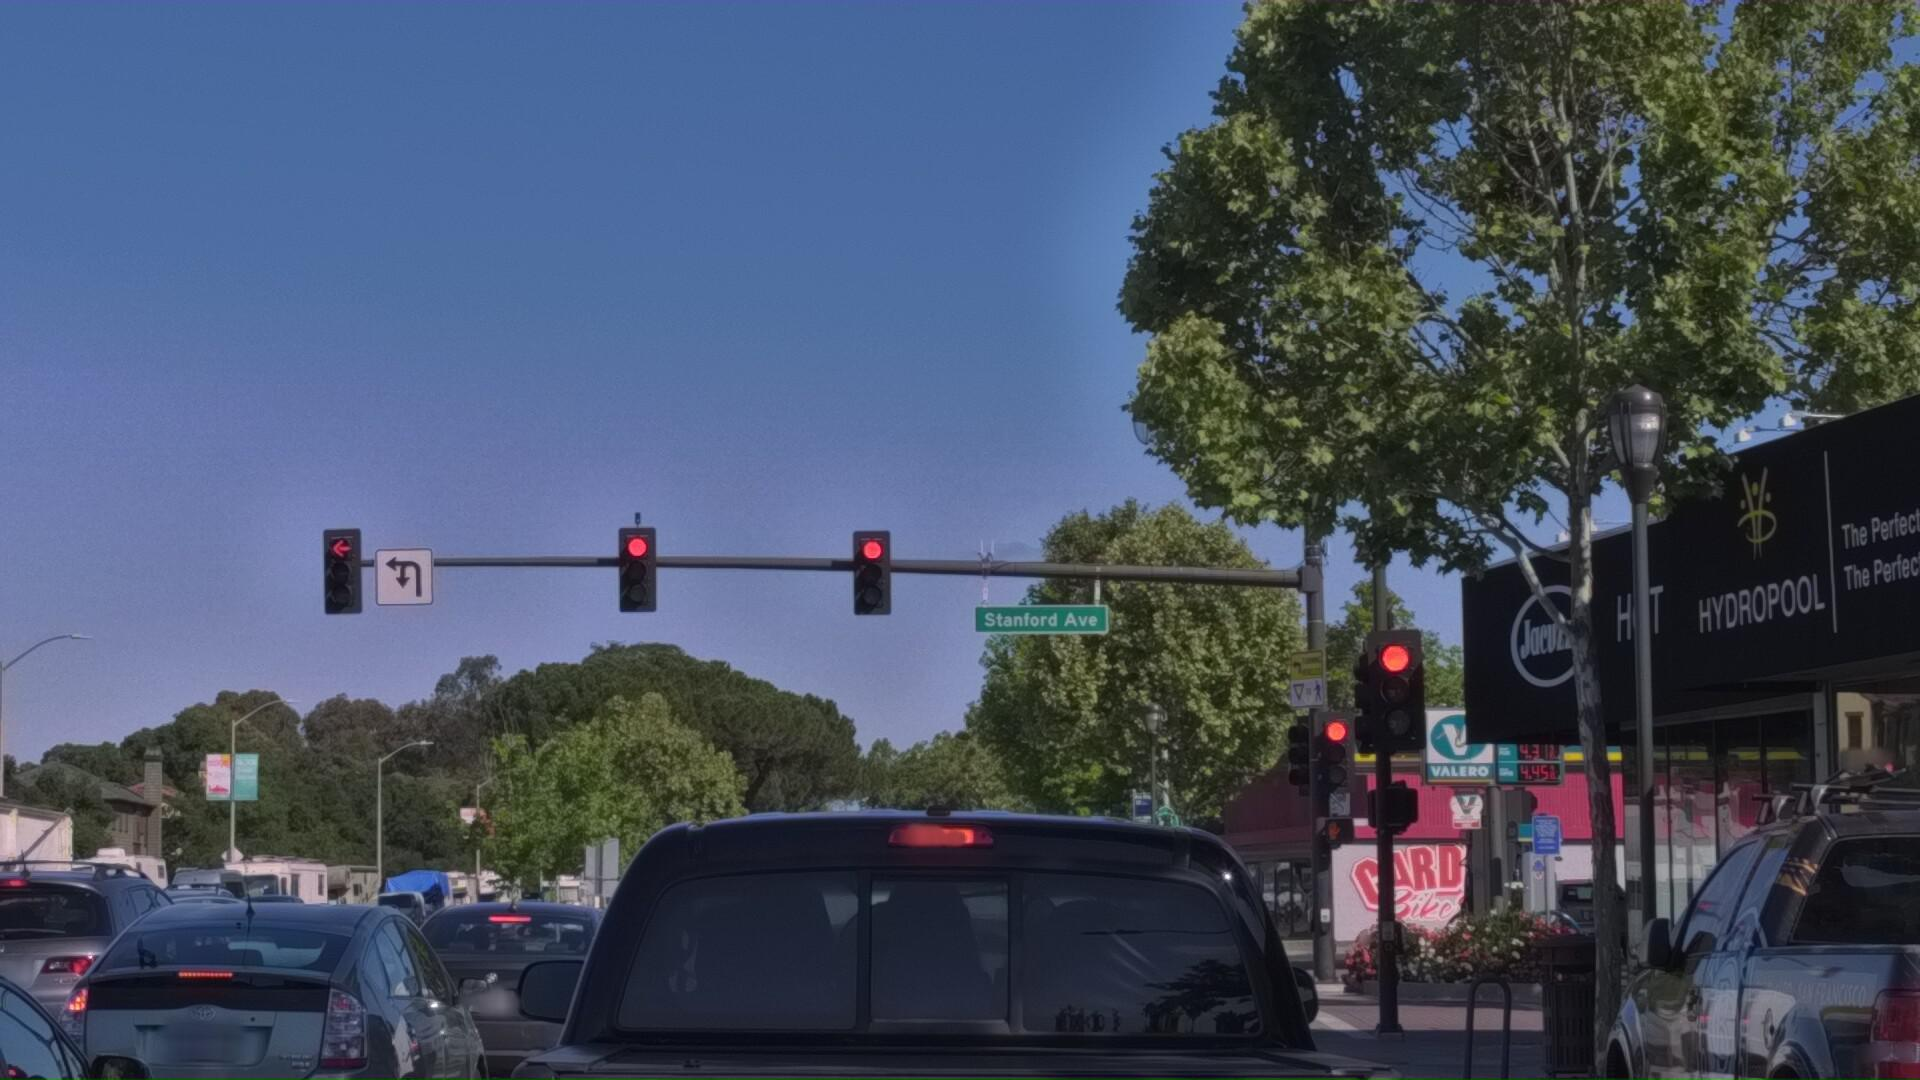car: (375, 782, 1494, 1080), (1534, 733, 1920, 1080), (0, 961, 510, 1080), (770, 905, 1044, 1080), (793, 968, 1201, 1080), (0, 926, 266, 1080), (0, 981, 400, 1080), (0, 935, 241, 1080), (392, 985, 675, 1080), (0, 968, 1, 1080)
truck: (0, 840, 100, 1080)
